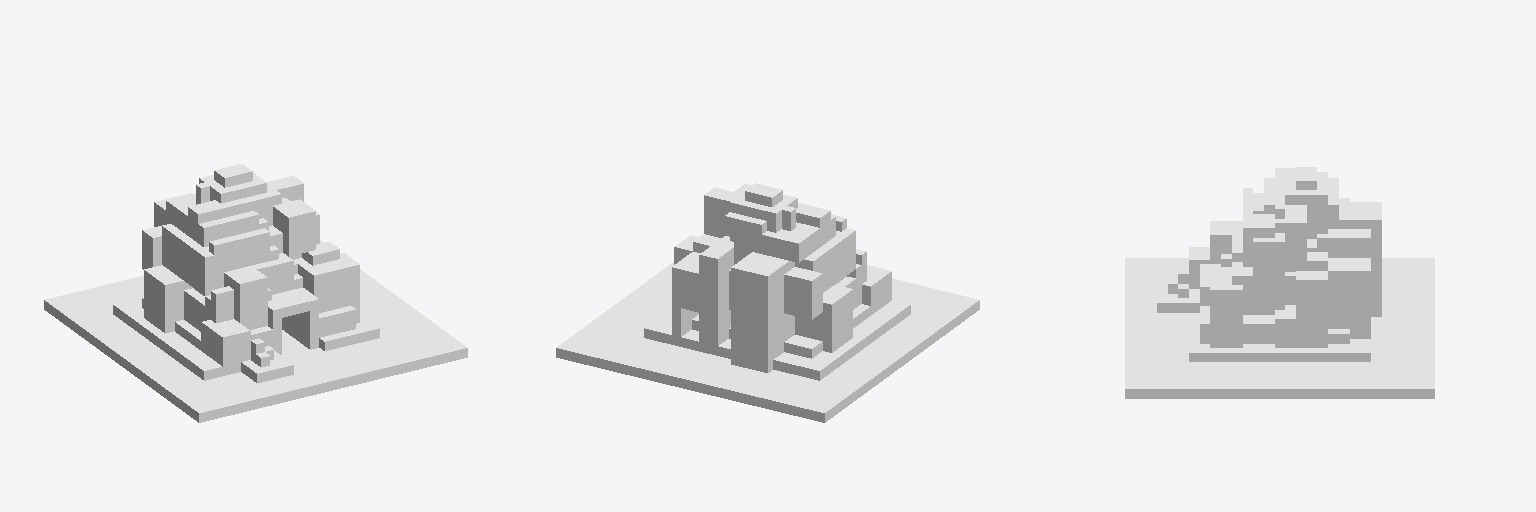
The model's file is StoneMine.obj.
3 views of the same model, side by side, from view 1: azimuth 30°, elevation 25°; view 2: azimuth 150°, elevation 25°; view 3: azimuth 270°, elevation 25° (orthographic).
Visible parts, largest first — view 1: object 1; view 2: object 1; view 3: object 1.
Part boxes in pixels (left/top/right/bottom): object 1: left=44, top=164, right=467, bottom=422; object 1: left=556, top=183, right=979, bottom=422; object 1: left=1125, top=167, right=1434, bottom=398.
Size of the model in its own units: 2.9 by 1.6 by 2.9.